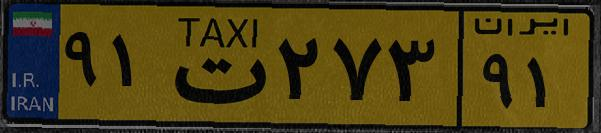1: (525, 38, 570, 115), (110, 28, 158, 98)
2: (270, 28, 330, 110)
3: (385, 28, 445, 110)
7: (330, 28, 385, 110)
9: (57, 26, 110, 100), (475, 38, 525, 113)
ت: (158, 12, 270, 120)
